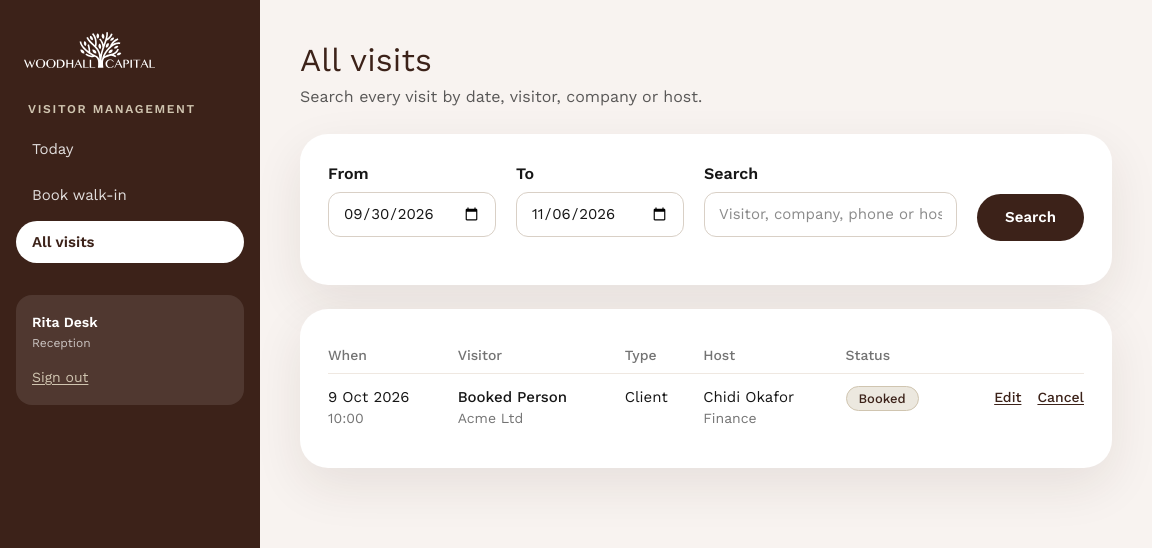
reception can cancel a booked visit from the list
Click the button with aria-label "Cancel visit by Booked Person". click: (1061, 396)
box: [1037, 386, 1084, 406]
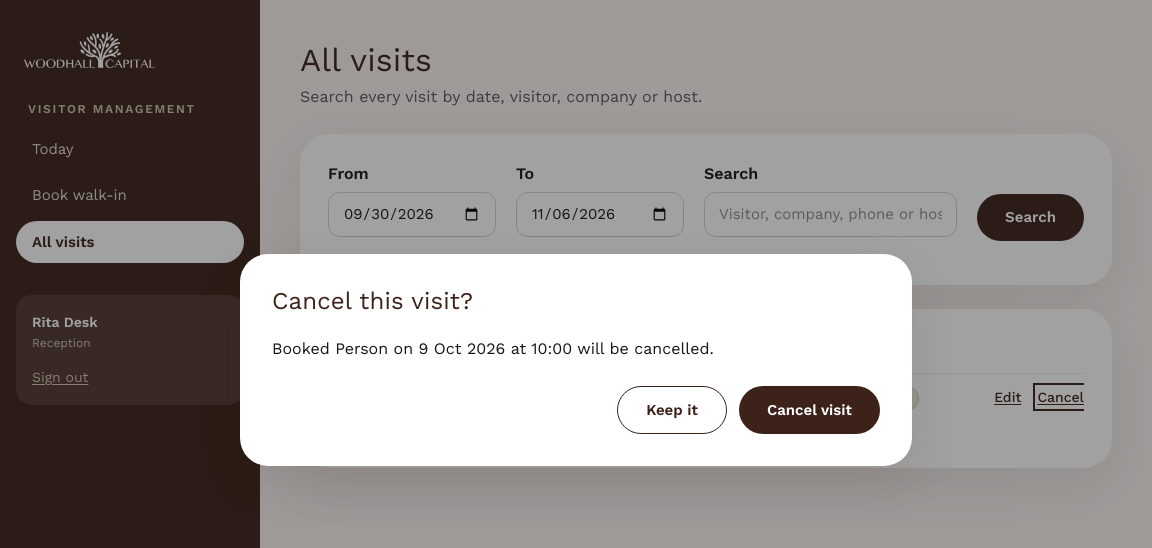
Click the button "Cancel visit". click: (809, 410)
box: [739, 386, 880, 434]
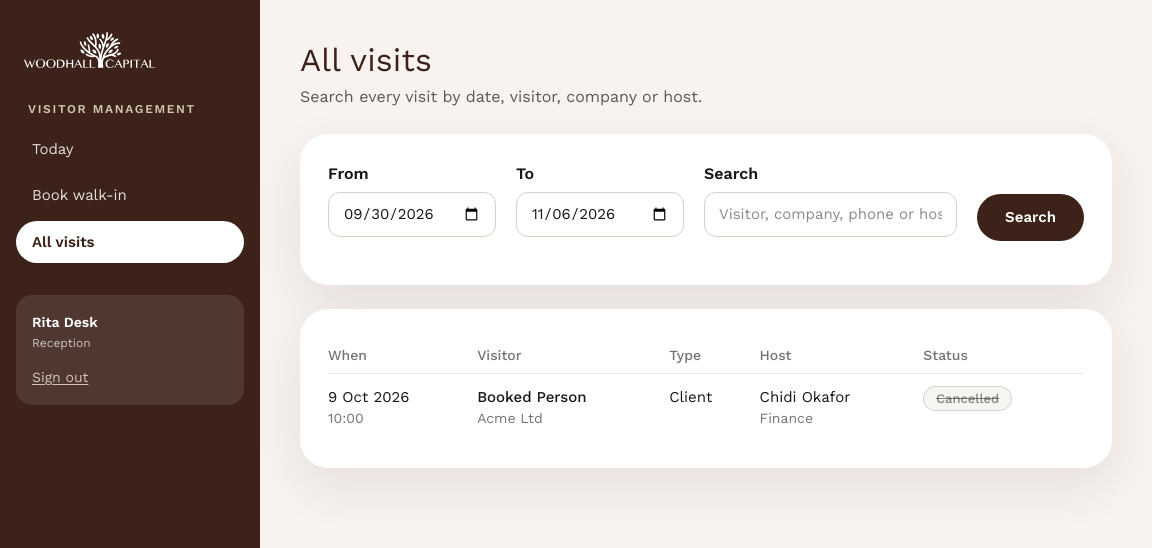
Check: the text "Cancelled" is shown, box [923, 386, 1012, 411]
